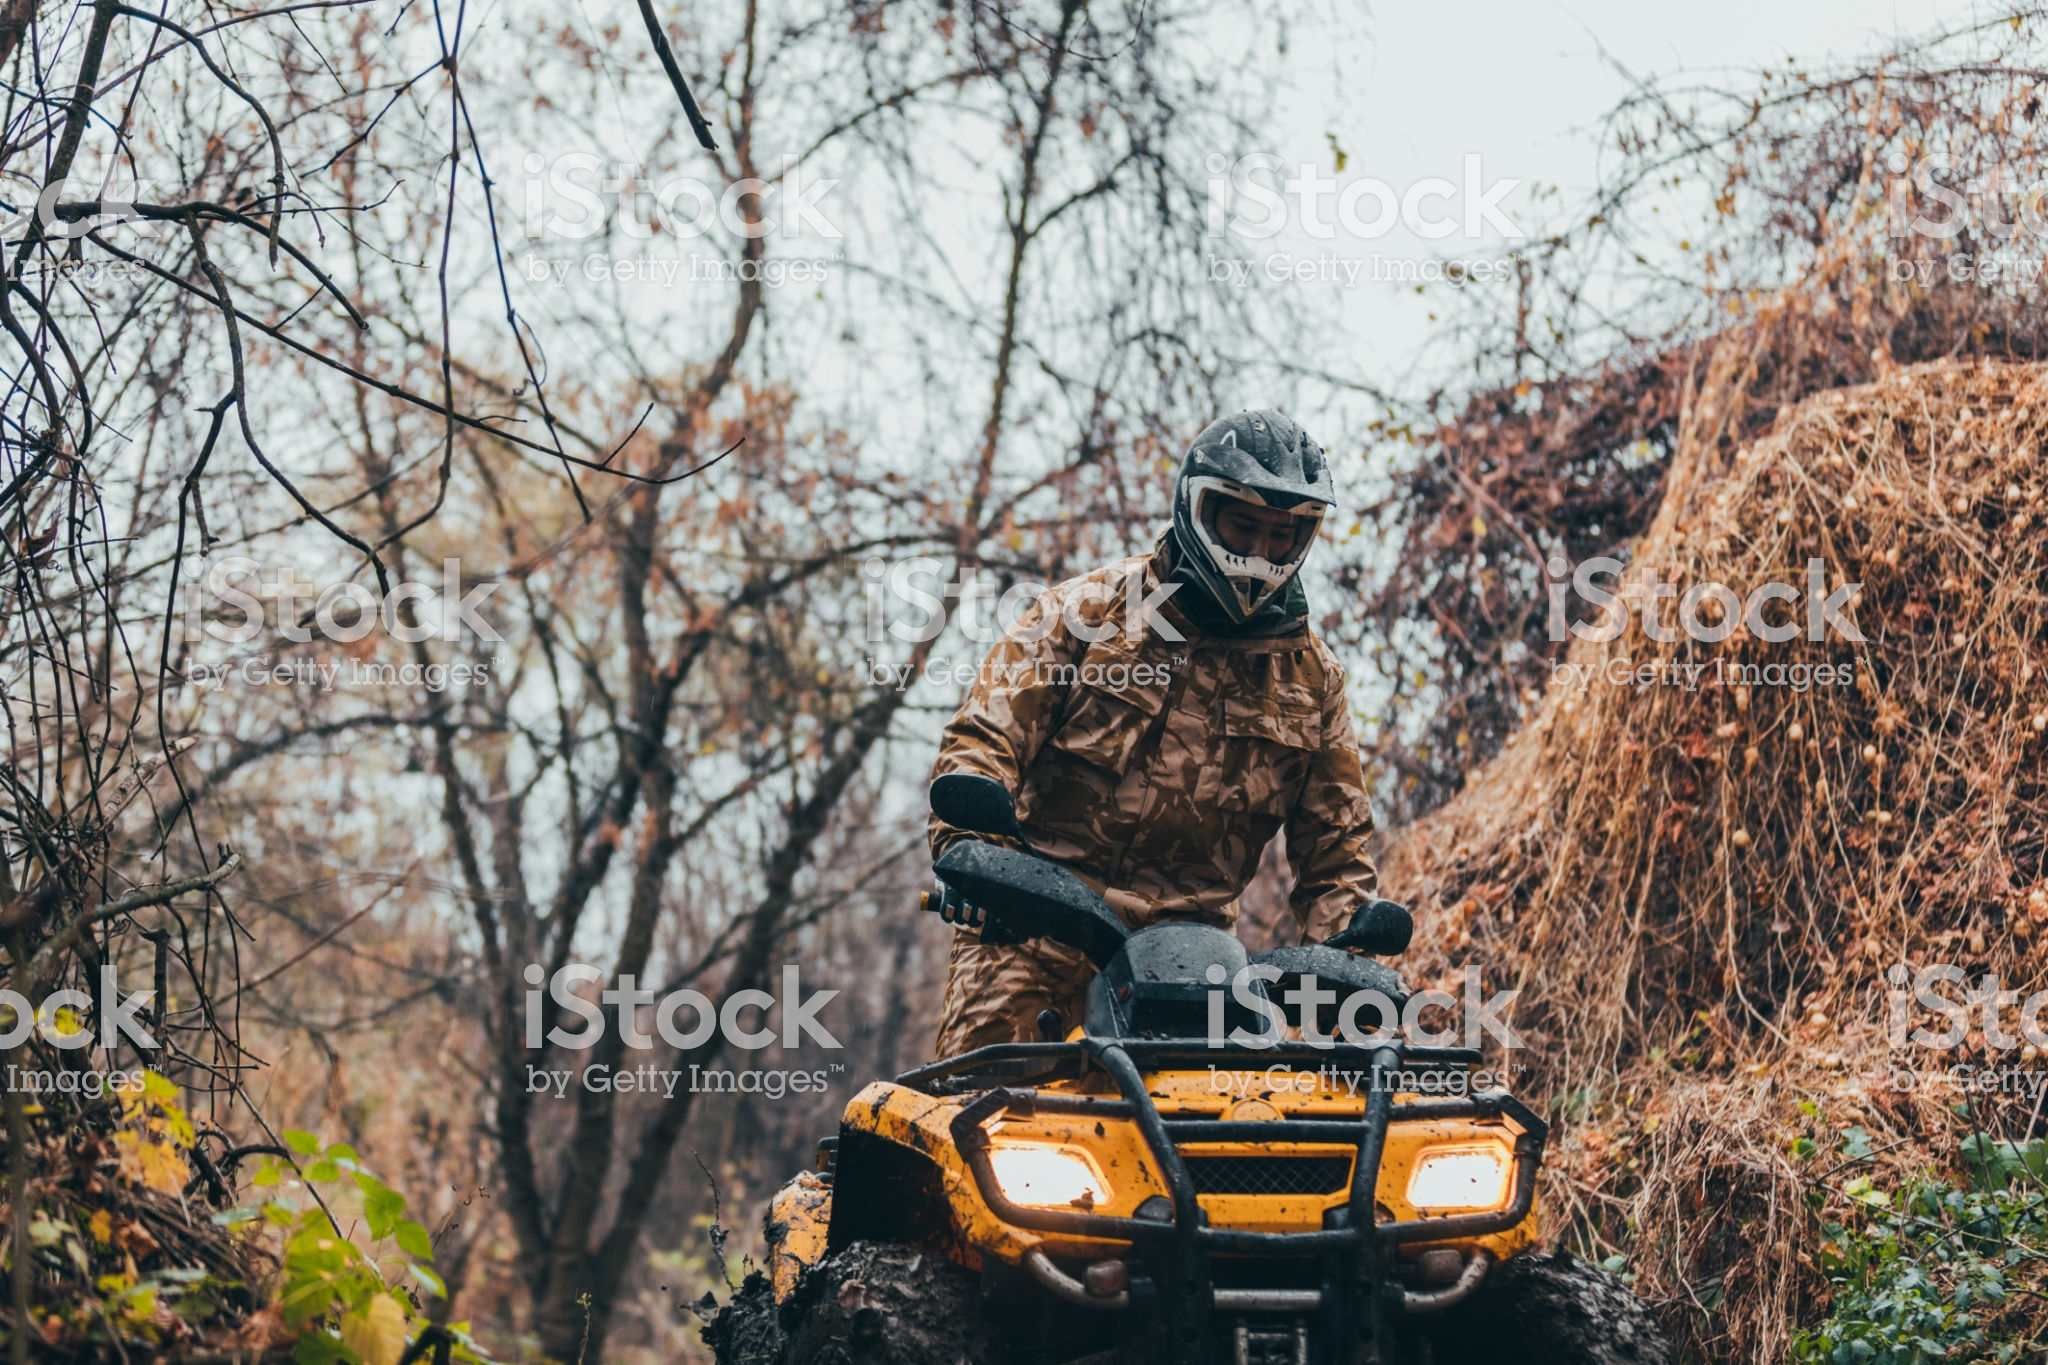helmet: (1165, 411, 1341, 638)
